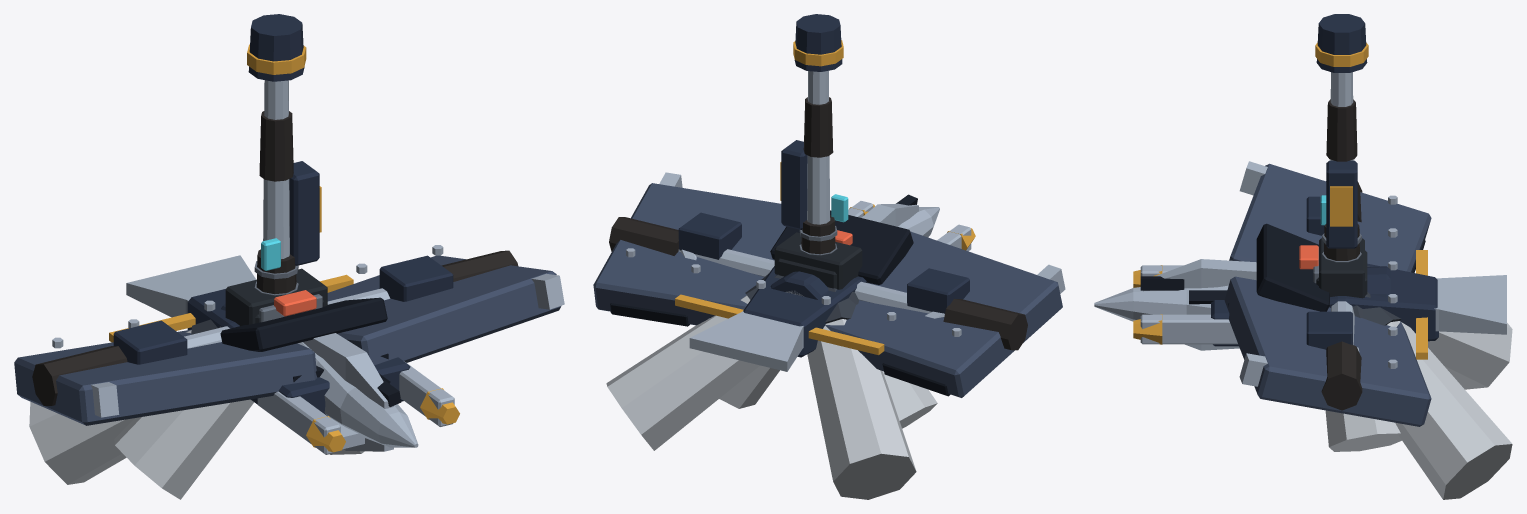
Rendered from surface-viewmodels.glb.
3 renders of one model, left to right at view 1: azimuth 30°, elevation 25°; view 2: azimuth 150°, elevation 25°; view 3: azimuth 270°, elevation 25°, orthographic. The views are drawn at different scales.
Visible parts, largest first — view 1: cowl-left, cowl-right, left-sleeve, skim-left-sleeve, display-bezel, drill-bit, pick-adze, power-cell, tool-spine, head-coupler, sample-jaw-r, bar-pod-right (+20 smaller); view 2: cowl-left, cowl-right, skim-left-sleeve, skim-right-sleeve, pick-adze, display-bezel, cowl-centre-spine, bar-grip-left, tool-spine, power-cell, bar-pod-right, bar-pod-left (+17 smaller); view 3: cowl-right, skim-right-sleeve, cowl-left, display-bezel, pick-adze, skim-left-sleeve, cowl-centre-spine, drill-bit, scanner-fork-r, right-sleeve, bar-grip-right, head-coupler (+19 smaller).
Boxes of the visible parts, box(x1,y1,x2,y2) form: cowl-left: box(14, 329, 317, 425); cowl-right: box(327, 255, 561, 365); left-sleeve: box(114, 399, 254, 499); skim-left-sleeve: box(29, 330, 191, 484); display-bezel: box(220, 297, 387, 351); drill-bit: box(298, 342, 418, 447); pick-adze: box(126, 255, 255, 317); power-cell: box(289, 161, 319, 265); tool-spine: box(263, 80, 289, 258); head-coupler: box(248, 14, 304, 81); sample-jaw-r: box(303, 333, 393, 408); bar-pod-right: box(379, 255, 453, 301); cowl-left: box(825, 225, 1062, 397); cowl-right: box(593, 183, 786, 325); skim-left-sleeve: box(807, 319, 916, 499); skim-right-sleeve: box(606, 295, 759, 450); pick-adze: box(689, 311, 803, 371); display-bezel: box(770, 210, 913, 284); cowl-centre-spine: box(743, 266, 866, 357); bar-grip-left: box(943, 298, 1027, 350); tool-spine: box(807, 70, 830, 224); power-cell: box(781, 140, 807, 229); bar-pod-right: box(678, 212, 741, 259); bar-pod-left: box(907, 268, 969, 313); cowl-right: box(1224, 276, 1431, 426); skim-right-sleeve: box(1387, 321, 1512, 499); cowl-left: box(1229, 163, 1431, 272); display-bezel: box(1256, 223, 1329, 311); pick-adze: box(1434, 275, 1506, 334); skim-left-sleeve: box(1428, 323, 1512, 389); cowl-centre-spine: box(1329, 263, 1438, 341); drill-bit: box(1094, 285, 1228, 321); scanner-fork-r: box(1140, 314, 1237, 344); right-sleeve: box(1325, 410, 1401, 451); bar-grip-right: box(1321, 341, 1362, 410); head-coupler: box(1316, 14, 1367, 72).
Size of the model in its own units: 1.01 by 0.9569 by 0.8615.
